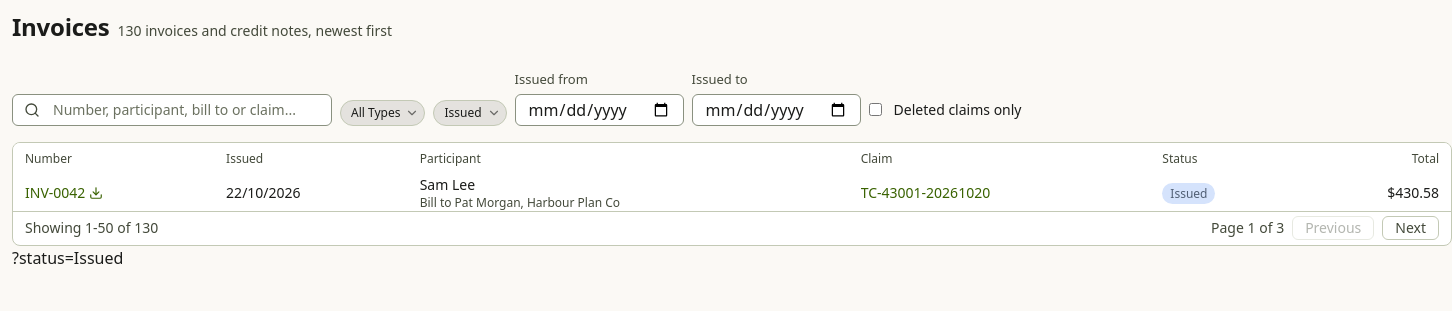
Test: InvoicesPage: the number downloads the PDF › drops the failure line and its announcement when the page changes
Step 1. Click the button with aria-label "Download INV-0042 PDF" → x=64, y=192, box left=25, top=182, right=103, bottom=202
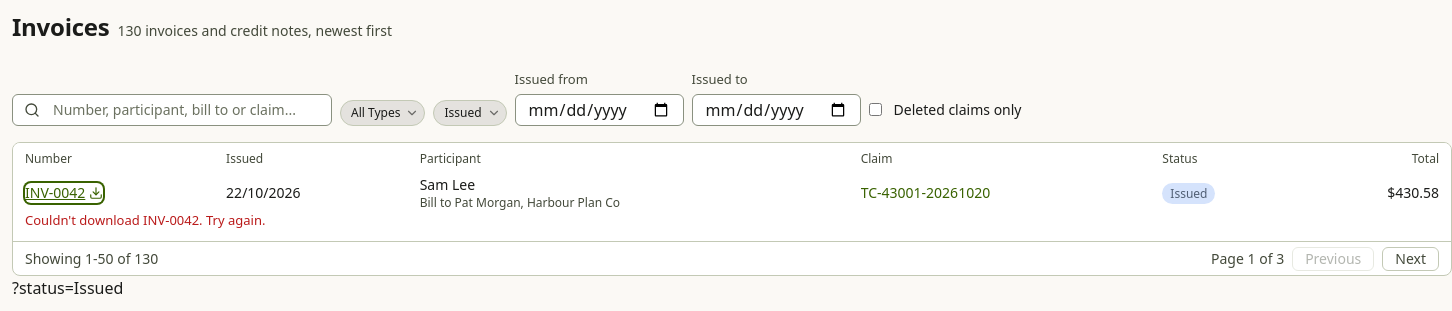
Check: the text "Couldn't download INV-0042. Try again." is shown 2 times
Step 2. Click the button with aria-label "Next page" → x=1411, y=259, box left=1382, top=247, right=1439, bottom=271
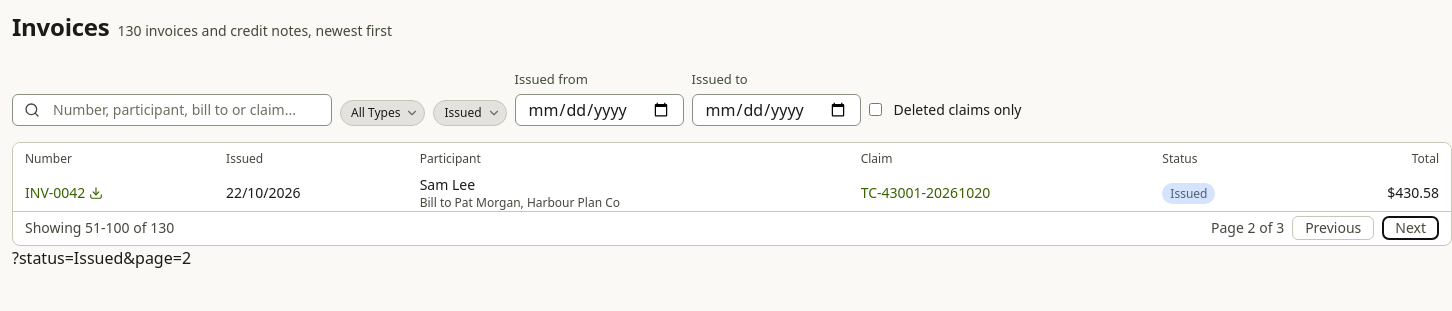
Check: the text "Couldn't download INV-0042. Try again." is not shown
